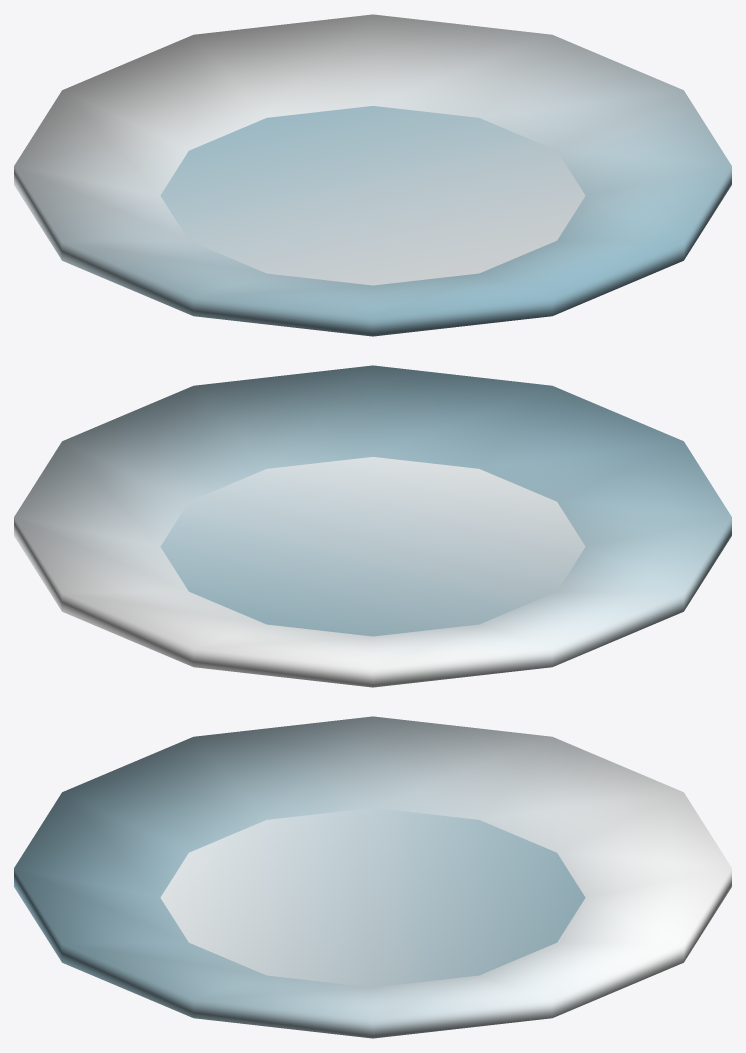
File: Dish.fbx
The picture shows the model from 3 angles, top to bottom: view 1: azimuth 30°, elevation 25°; view 2: azimuth 150°, elevation 25°; view 3: azimuth 270°, elevation 25°; orthographic projection.
Visible parts, largest first — view 1: Circle; view 2: Circle; view 3: Circle.
Part boxes in pixels (bbox=[...]): Circle: bbox=[14, 14, 731, 336]; Circle: bbox=[14, 365, 731, 687]; Circle: bbox=[14, 716, 731, 1038].
Bounding box in the file's own units: 59.79 × 4.44 × 59.79.
1 material, 1 textured.
